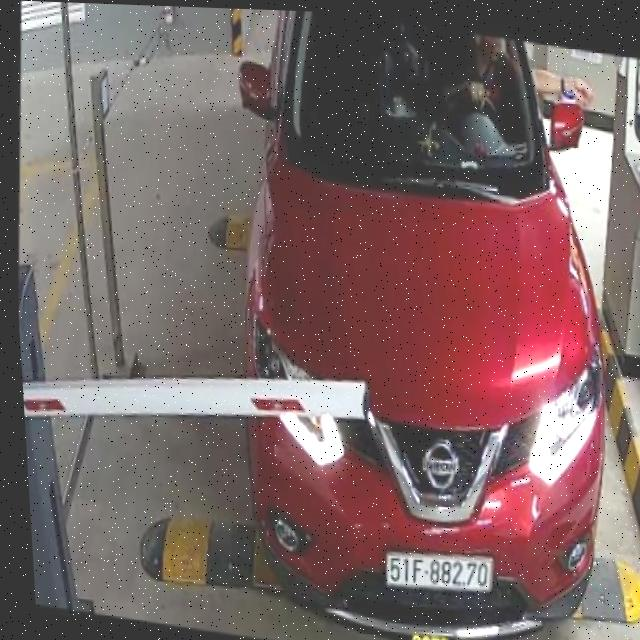car: (203, 8, 636, 640)
plate: (376, 545, 501, 597)
